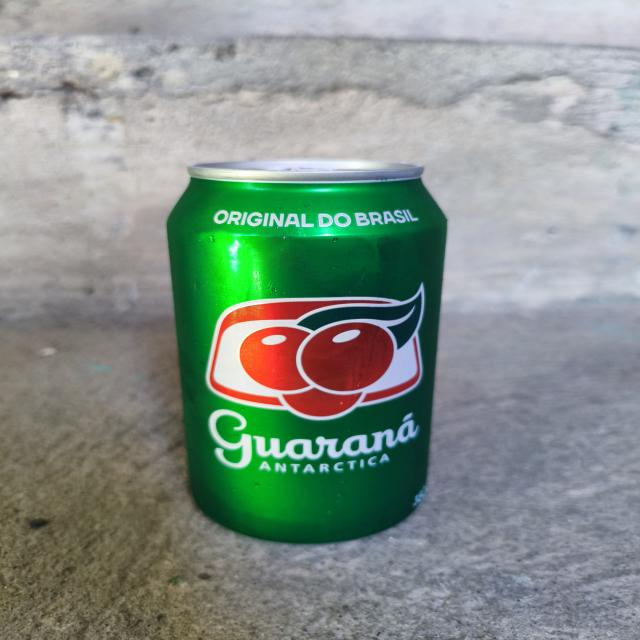Guarana: (176, 142, 446, 542)
